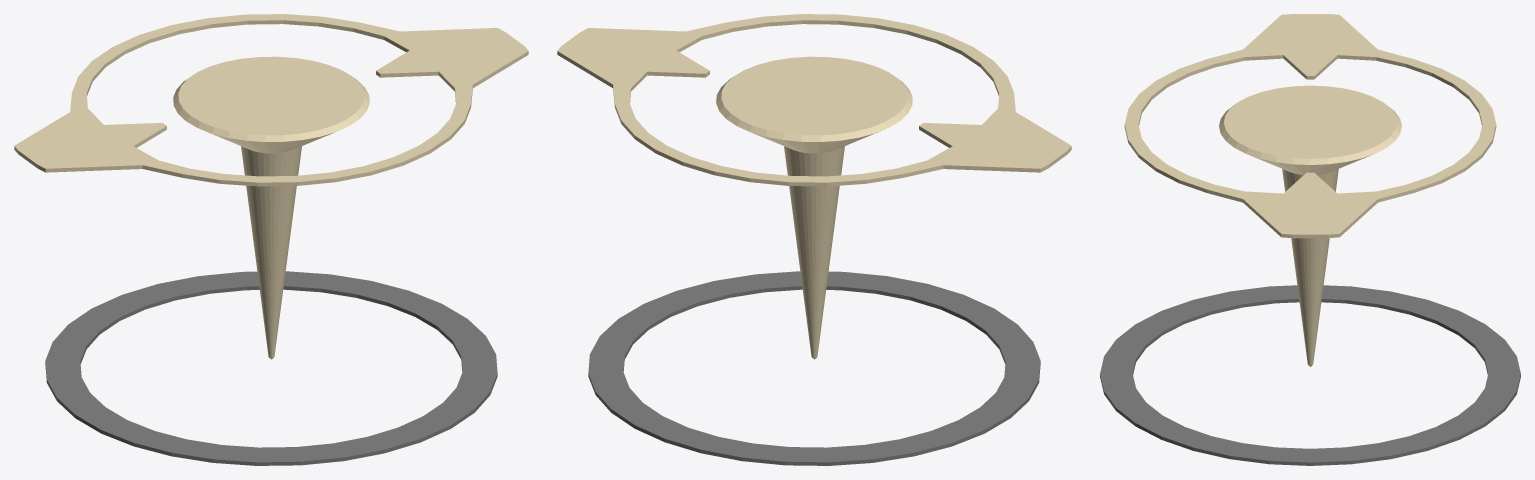
File: MapMarkers.dae
3 views of the same model, side by side, from view 1: azimuth 30°, elevation 25°; view 2: azimuth 150°, elevation 25°; view 3: azimuth 270°, elevation 25° (orthographic). The views are drawn at different scales.
Parts seen in each view (by area): view 1: LocationMarker, LocationMarkerSelected; view 2: LocationMarker, LocationMarkerSelected; view 3: LocationMarker, LocationMarkerSelected.
Boxes of the visible parts, box(x1,y1,x2,y2) form: LocationMarker: box(45, 56, 497, 465); LocationMarkerSelected: box(14, 14, 528, 186); LocationMarker: box(588, 56, 1040, 465); LocationMarkerSelected: box(557, 14, 1071, 186); LocationMarker: box(1100, 85, 1520, 465); LocationMarkerSelected: box(1124, 14, 1496, 238).
Size of the model in its own units: 5.1 by 4.11 by 2.75.
